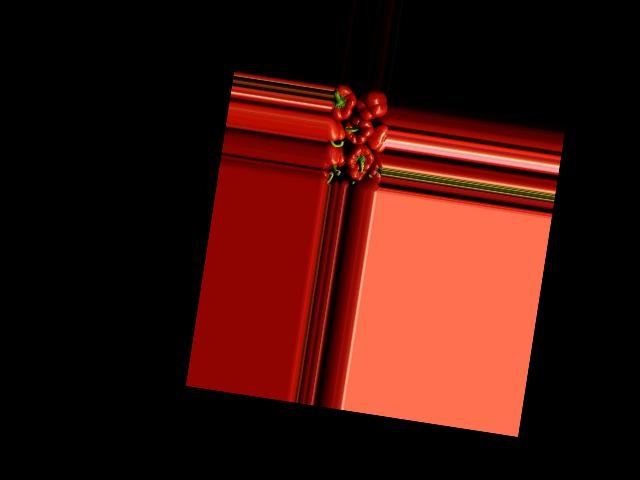bell_pepper: (368, 122, 388, 152)
